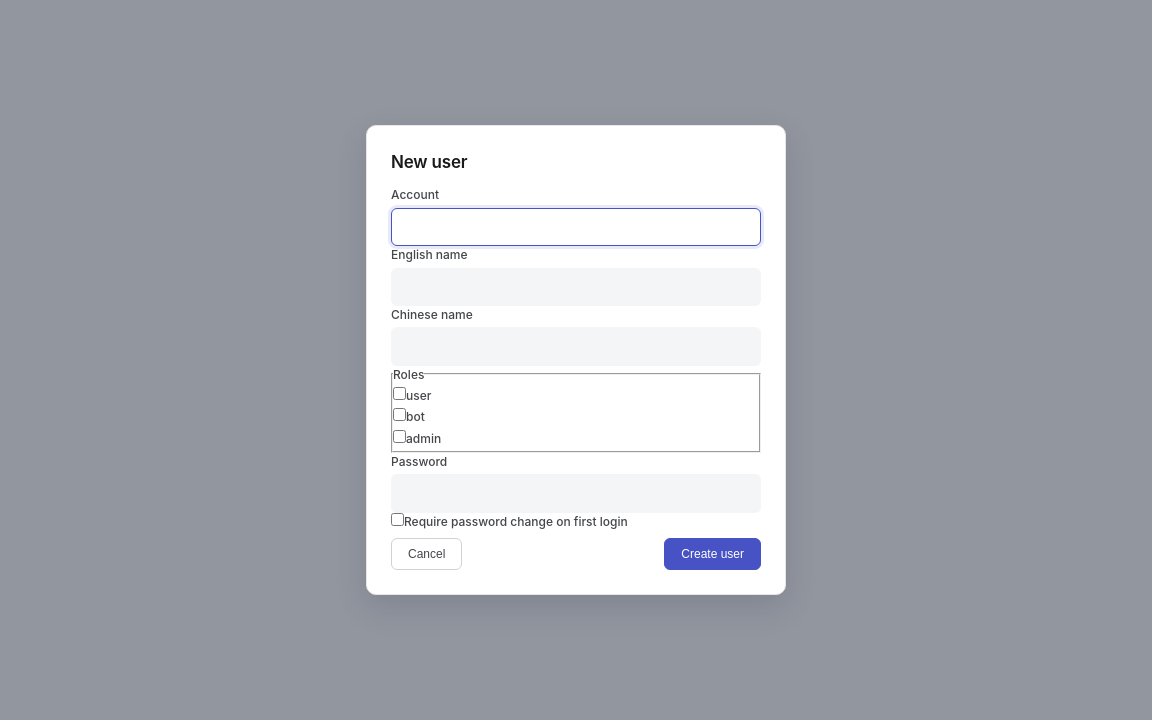
CreateUserForm › blocks submit when account is missing
Type "hunter2" into the password field labelled "Password" at (576, 494), box [391,474,761,513]
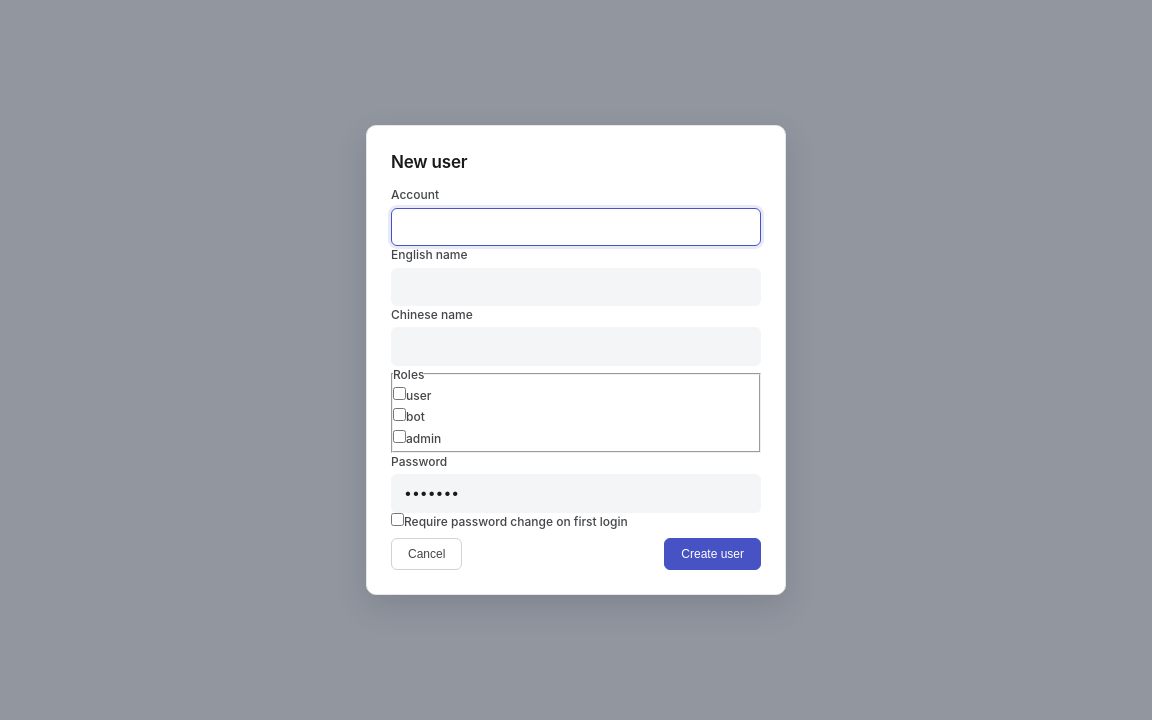
Click the checkbox labelled "admin" at (400, 436), box [393,430,406,443]
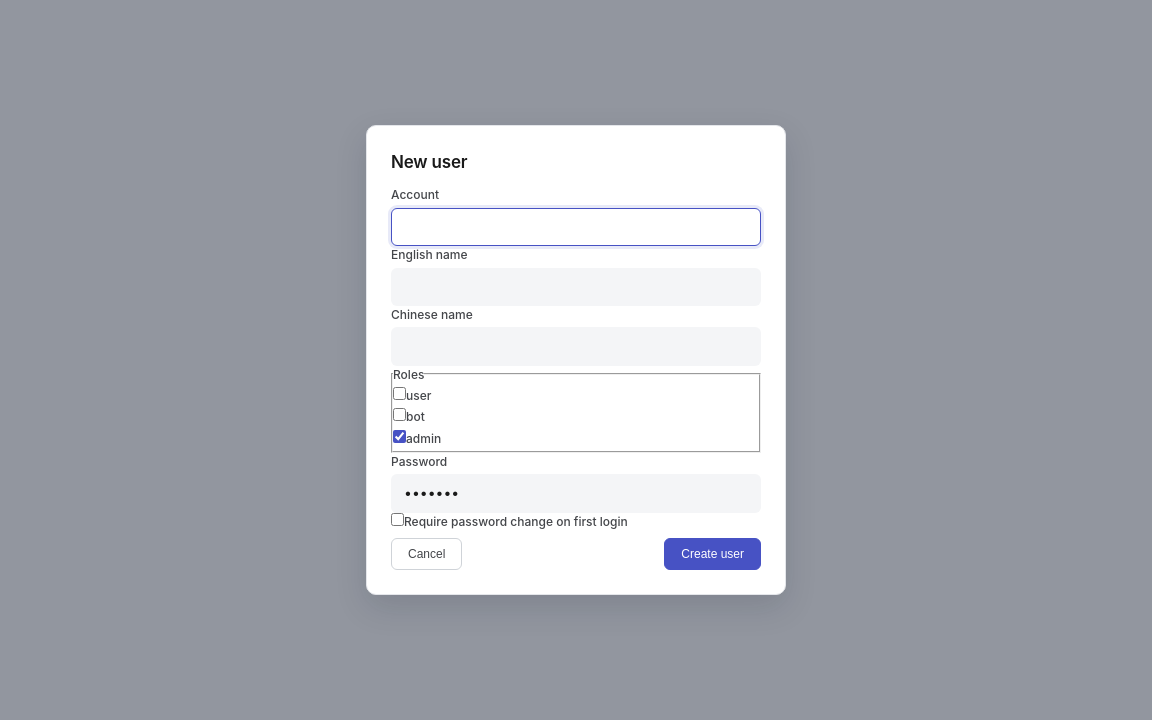
Click the button "Create user" at (713, 554), box [664,538,761,570]
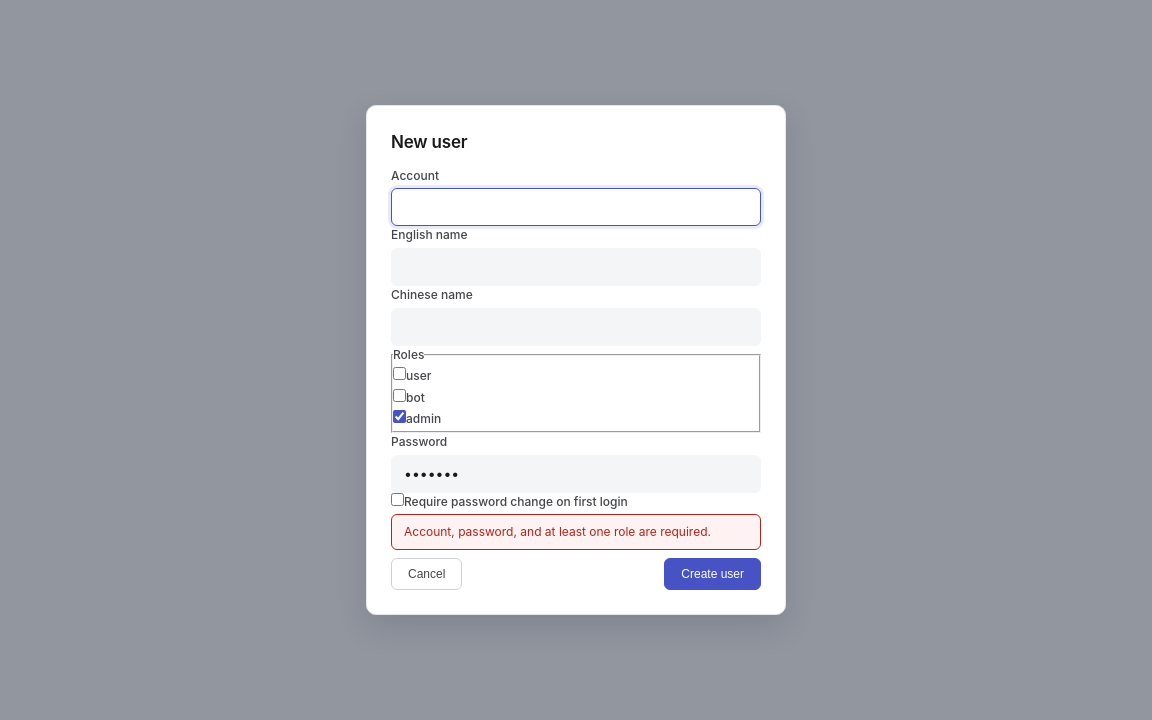
Expected: the text "Account, password, and at least one role are required." is shown, [391,514,761,550]
